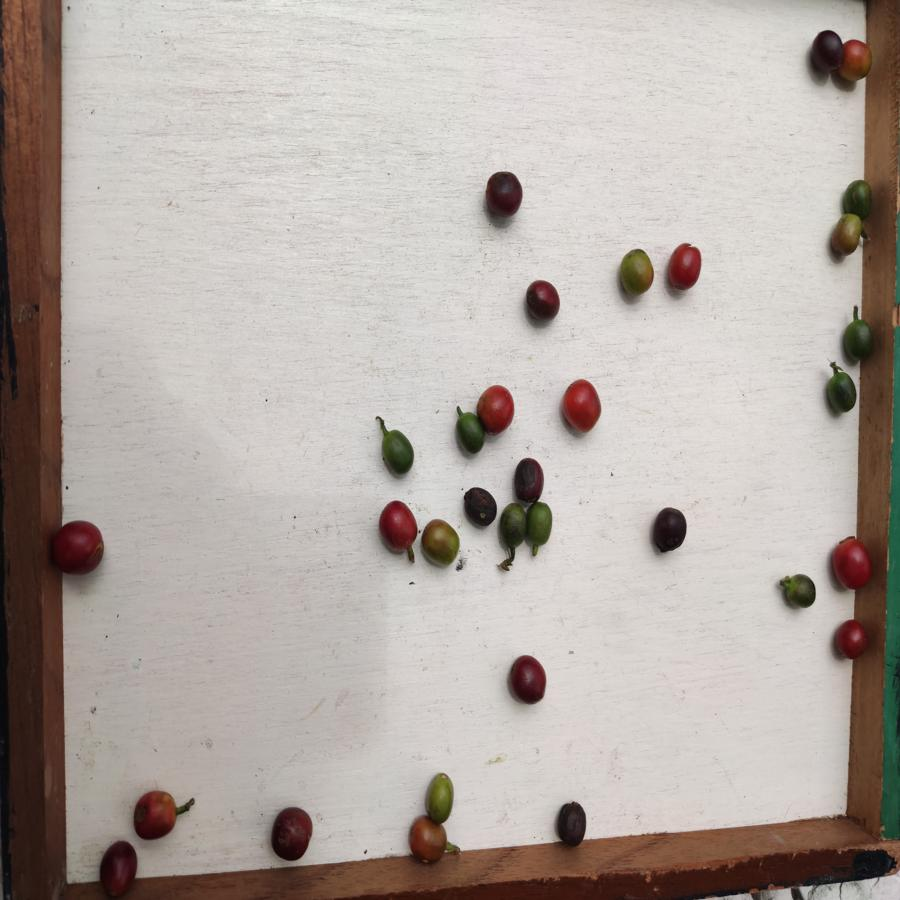Inmaduro: (377, 427, 418, 475), (841, 320, 875, 365), (782, 572, 817, 611), (827, 370, 858, 414), (501, 503, 527, 551), (844, 176, 873, 214), (527, 501, 552, 545), (456, 411, 479, 455)
Maduro: (50, 520, 107, 578), (561, 379, 604, 435), (829, 538, 873, 591), (375, 498, 416, 554), (665, 240, 703, 291), (832, 617, 874, 663), (477, 386, 517, 433)
Pinton: (133, 789, 178, 841), (617, 247, 654, 300), (421, 518, 459, 569), (408, 814, 448, 862), (425, 773, 456, 824), (832, 211, 865, 258), (843, 39, 874, 86)
Sobremaduro: (269, 805, 314, 863), (98, 839, 137, 897), (510, 653, 547, 705), (484, 170, 524, 217), (653, 506, 687, 553), (525, 278, 561, 322), (812, 28, 843, 75), (513, 459, 545, 503), (559, 798, 588, 845), (463, 487, 496, 528)
